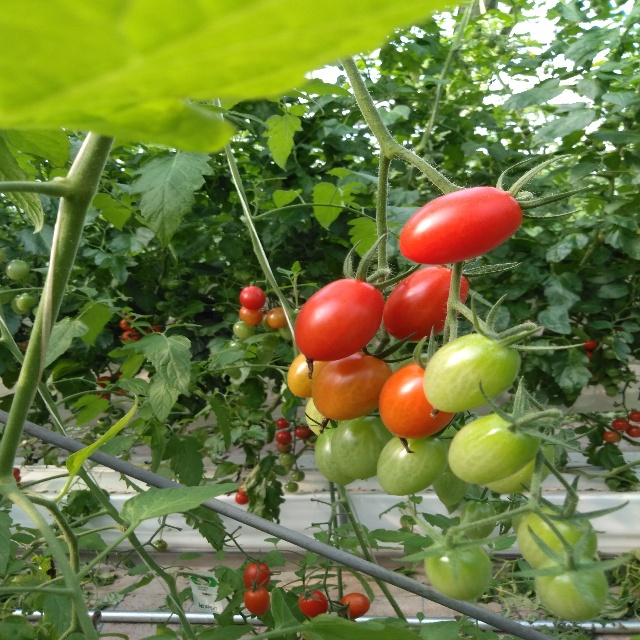l_fully_ripened: (398, 186, 523, 265), (294, 279, 385, 361), (382, 266, 468, 343), (337, 592, 371, 619), (298, 589, 329, 618), (243, 585, 269, 616), (242, 562, 270, 588), (238, 286, 265, 310)
l_green: (423, 333, 521, 414), (448, 413, 541, 485), (533, 552, 609, 623), (517, 505, 598, 568), (482, 429, 554, 495), (375, 433, 448, 496), (423, 536, 492, 601), (330, 415, 396, 480), (314, 427, 356, 485), (431, 464, 473, 506), (461, 499, 498, 543), (304, 398, 344, 435), (6, 259, 30, 280), (232, 321, 255, 341), (16, 293, 37, 312)
l_half_ripened: (378, 363, 457, 439), (313, 353, 392, 422), (287, 352, 332, 398), (239, 306, 263, 326), (266, 307, 287, 328)
